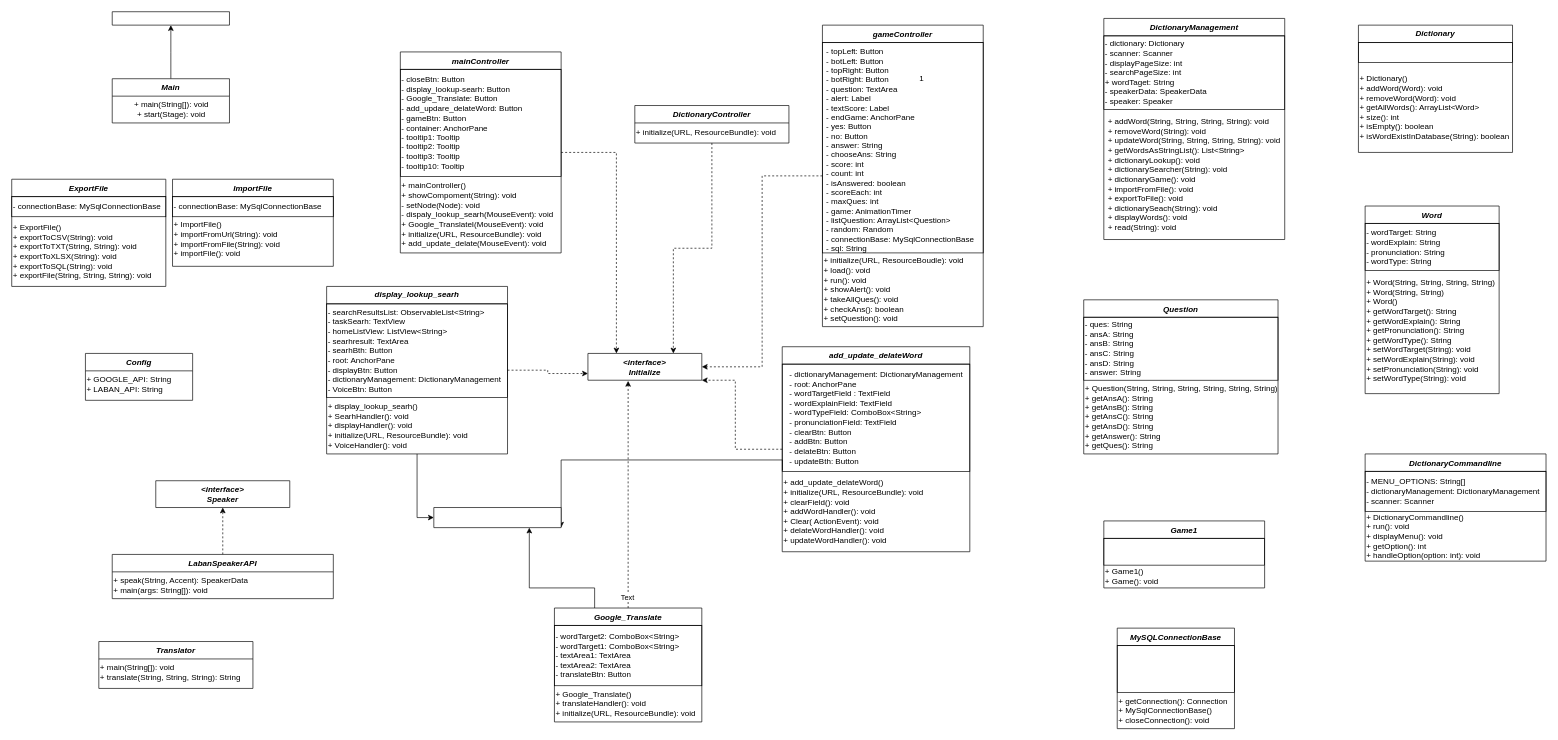
Some shapes in this 1558 by 740 pixel diagram are drawn without their labels. The shapes that lost their labels are listed below. From the top down, each one's centre as x and y in pixels, then its label:
At (x=170, y=18): "Application".
At (x=1435, y=52): "- words: ArrayList<Word>".
At (x=497, y=517): "AnchorPane".
At (x=1184, y=551): "- connectionBase: MySqlConnectionBase - sql: String".
At (x=1175, y=668): "- connection: Connection - url: String - user: String - password: String".
